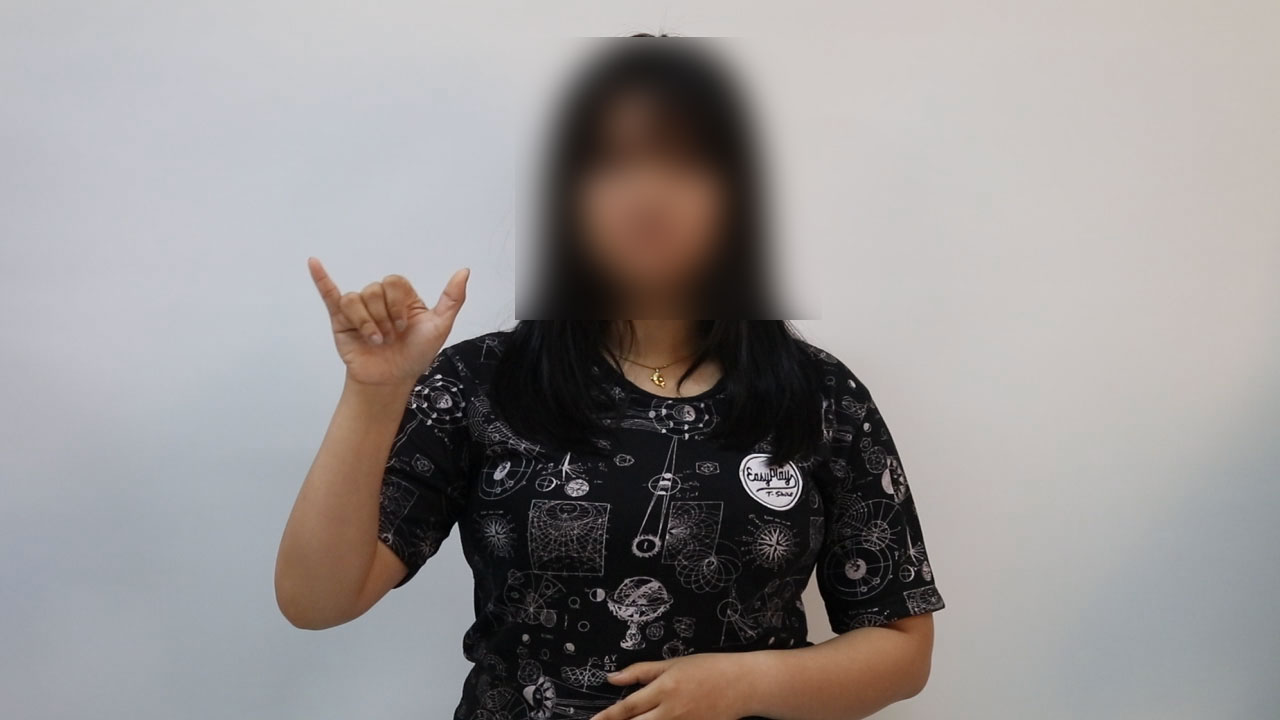yor: (297, 247, 483, 402)
